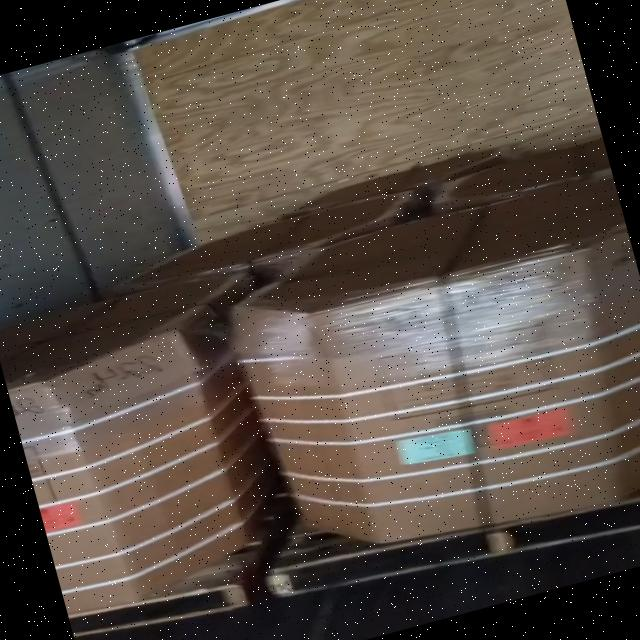pallet: (266, 495, 640, 601), (67, 579, 248, 638)
